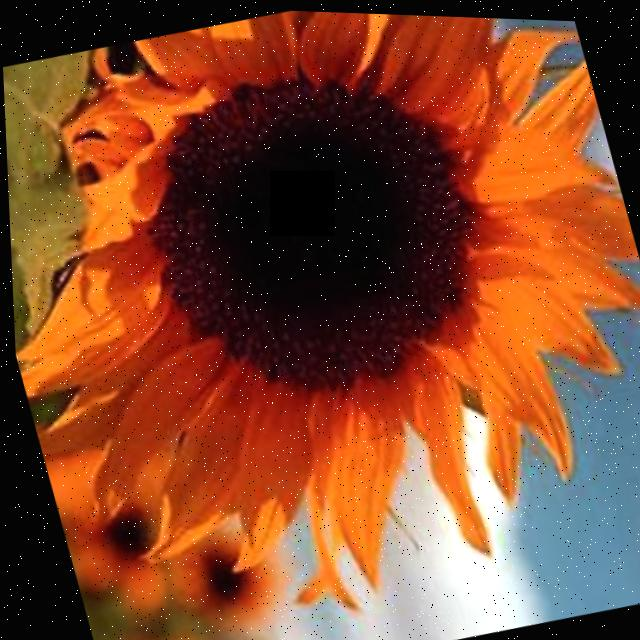sunflower: (0, 0, 640, 632)
